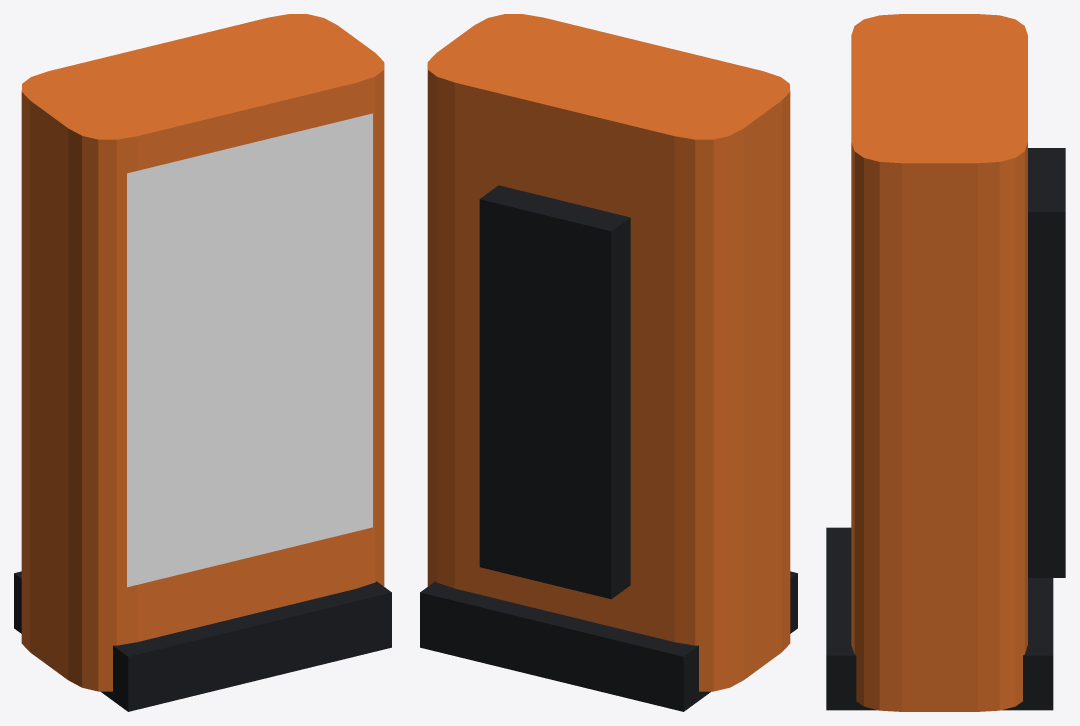
File: toolkit--fourGasMeter.glb
The picture shows the model from 3 angles, left to right: view 1: azimuth 30°, elevation 25°; view 2: azimuth 150°, elevation 25°; view 3: azimuth 270°, elevation 25°; orthographic projection.
Parts seen in each view (by area): view 1: fourGasMeter:shell, screen; view 2: fourGasMeter:shell; view 3: fourGasMeter:shell.
Part boxes in pixels (<box>): fourGasMeter:shell: <box>14,14,391,711</box>; screen: <box>127,113,372,587</box>; fourGasMeter:shell: <box>420,14,797,711</box>; fourGasMeter:shell: <box>826,14,1065,711</box>.
Bounding box in the file's own units: 0.07 × 0.122 × 0.0475.
